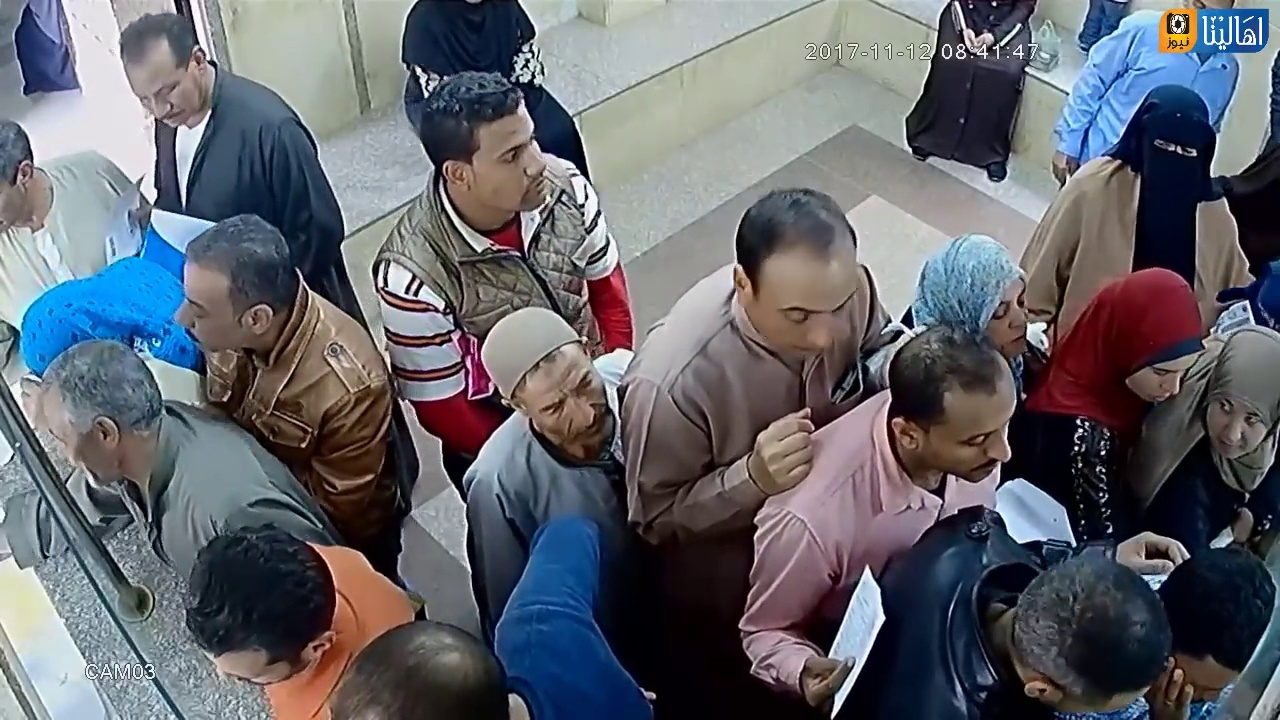face: (765, 251, 886, 373), (515, 375, 612, 452), (469, 125, 547, 215), (126, 46, 195, 136), (951, 402, 1012, 486), (176, 262, 233, 350), (1213, 383, 1265, 454), (1133, 356, 1186, 412)
